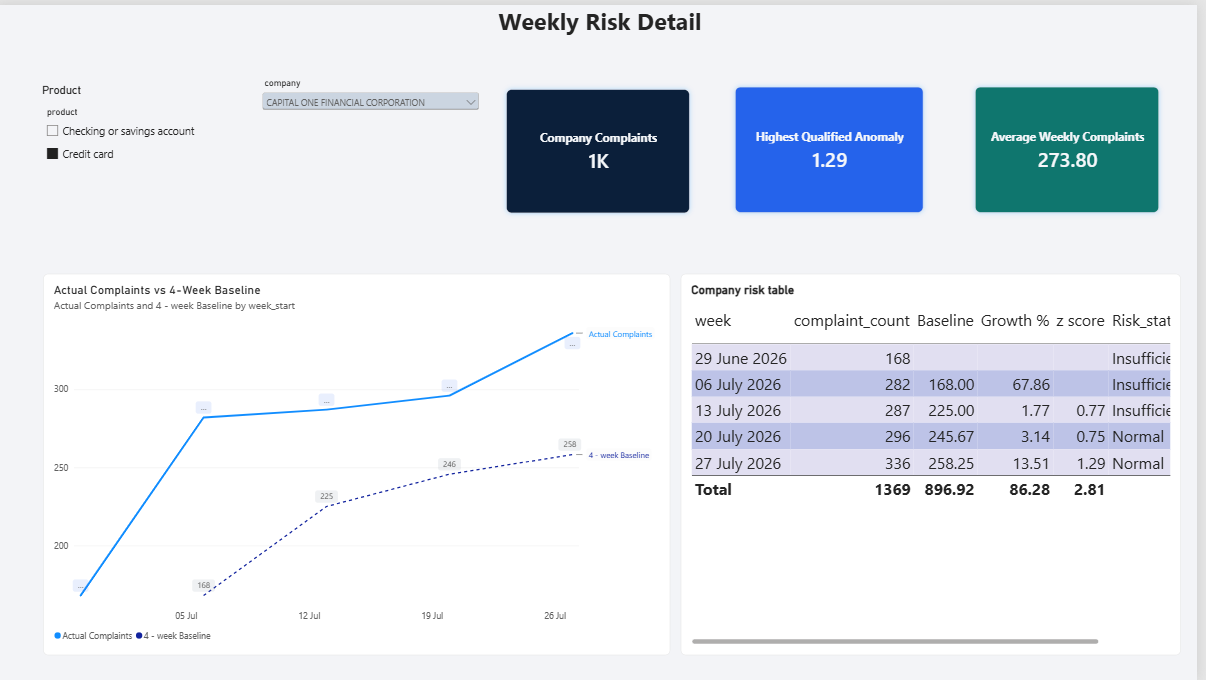

The dashboard page shown, as its layout file describes it:
{"tool":"powerbi","page":{"name":"company monitor ","canvas":[1920,1080],"ordinal":1},"visuals":[{"type":"textbox","box":[10,0,1910,230],"z":0},{"type":"cardVisual","fields":{"Data":["emerging_themes.Company Complaints"]},"box":[803.3,123.3,315,220],"z":1000},{"type":"cardVisual","fields":{"Data":["emerging_themes.Average Weekly Complaints"]},"box":[1553.3,120,316.7,223.3],"z":2000},{"type":"cardVisual","fields":{"Data":["emerging_themes.Highest Anomaly Score"]},"box":[1170,120,323.3,223.3],"z":3000},{"type":"slicer","title":"Product","fields":{"Values":["risklens vw_company_risk_signals.product"]},"box":[72,126,320,213.3],"z":4000},{"type":"tableEx","title":"Company risk table","fields":{"Values":["risklens vw_company_risk_signals.week_start","Sum(risklens vw_company_risk_signals.complaint_count)","Sum(risklens vw_company_risk_signals.rolling_4_week_average)","Sum(risklens vw_company_risk_signals.week_over_week_growth)","Sum(risklens vw_company_risk_signals.anomaly_z_score)","risklens vw_company_risk_signals.alert_level"]},"box":[1093.3,430,800,610],"z":5000},{"type":"lineChart","title":"Actual Complaints vs 4-Week Baseline","fields":{"Category":["risklens vw_company_risk_signals.week_start"],"Y":["Sum(risklens vw_company_risk_signals.complaint_count)","Sum(risklens vw_company_risk_signals.rolling_4_week_average)"]},"box":[73.3,430,1003.3,610],"z":6000},{"type":"slicer","fields":{"Values":["risklens vw_company_risk_signals.company"]},"box":[420,116,356,220],"z":7000}]}

Visuals, with their boxes in screenshot pixels (x1, y1, x2, y2), scaled from the page's 1920x1080 canvas onto the 1206x680 screenshot:
textbox: pyautogui.locateOnScreen(6, 0, 1205, 145)
cardVisual - emerging_themes.Company Complaints: pyautogui.locateOnScreen(505, 78, 702, 216)
cardVisual - emerging_themes.Average Weekly Complaints: pyautogui.locateOnScreen(976, 76, 1175, 216)
cardVisual - emerging_themes.Highest Anomaly Score: pyautogui.locateOnScreen(735, 76, 938, 216)
"Product" slicer: pyautogui.locateOnScreen(45, 79, 246, 214)
"Company risk table" tableEx: pyautogui.locateOnScreen(687, 271, 1189, 655)
"Actual Complaints vs 4-Week Baseline" lineChart: pyautogui.locateOnScreen(46, 271, 676, 655)
slicer - risklens vw_company_risk_signals.company: pyautogui.locateOnScreen(264, 73, 487, 212)
